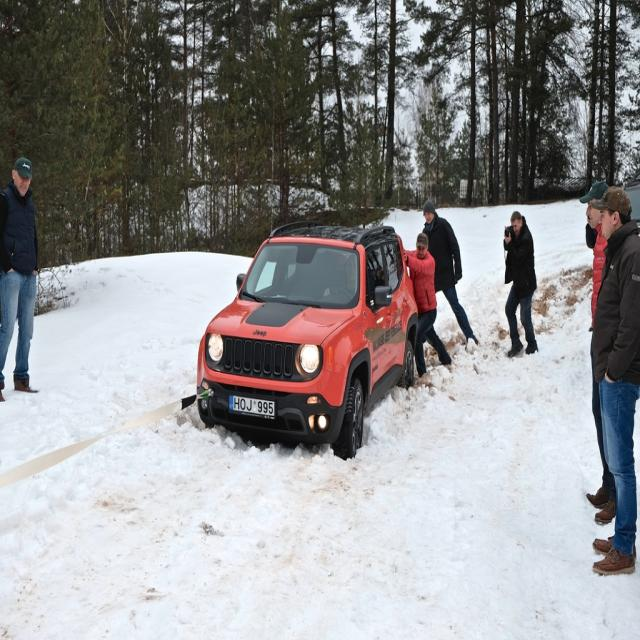car: (184, 218, 424, 457)
